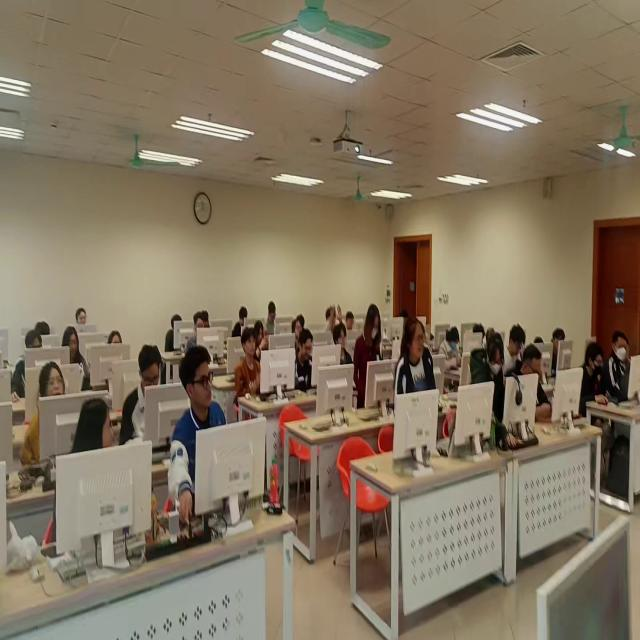raise_hand: (328, 304, 349, 331)
raise_head: (170, 346, 243, 529), (26, 359, 71, 470), (236, 332, 276, 411), (63, 329, 98, 401), (334, 319, 359, 382), (76, 305, 90, 334), (292, 319, 305, 343)
stand: (466, 330, 507, 460), (403, 322, 439, 467), (356, 304, 384, 426)
using_computer: (120, 348, 175, 458), (509, 346, 571, 439), (578, 342, 626, 438), (9, 329, 52, 406), (289, 330, 337, 395), (440, 324, 473, 388), (187, 313, 219, 364), (103, 330, 132, 380), (546, 328, 572, 378), (163, 315, 192, 357), (507, 321, 530, 365), (264, 301, 289, 341), (229, 305, 251, 346)
